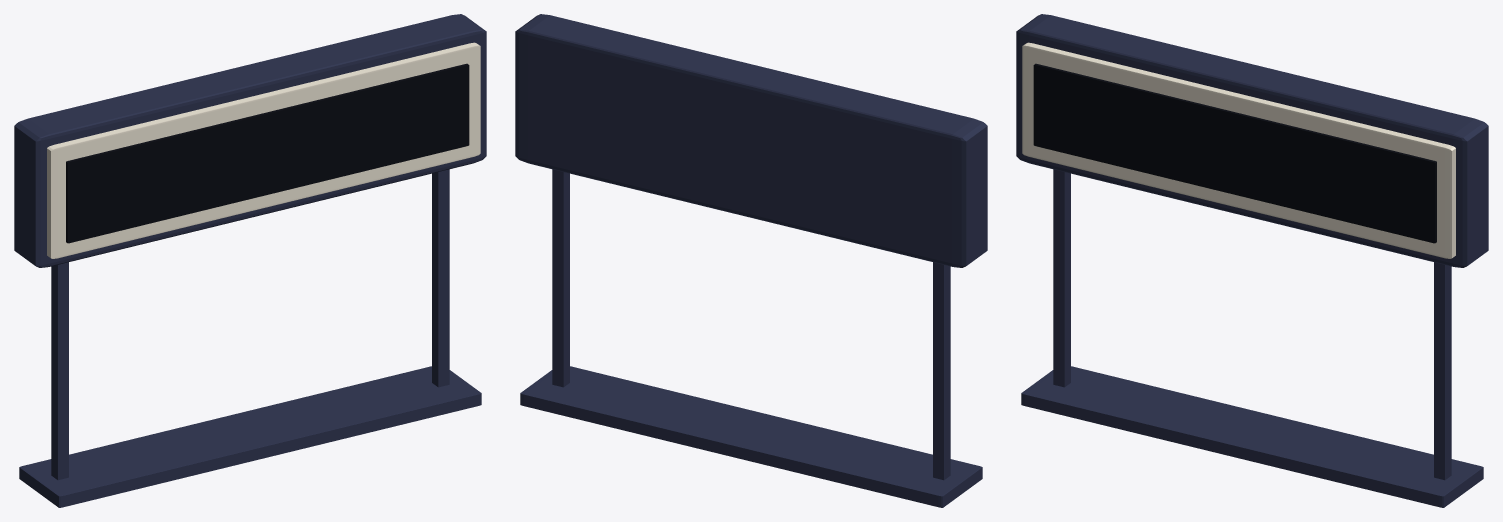
The model's file is ticker.glb.
3 views of the same model, side by side, from view 1: azimuth 30°, elevation 25°; view 2: azimuth 150°, elevation 25°; view 3: azimuth 330°, elevation 25° (orthographic).
Visible parts, largest first — view 1: TICKER_Screen, TK_Frame, TK_Foot, TK_Face, TK_LegR, TK_LegL; view 2: TK_Frame, TK_Foot, TK_LegR, TK_LegL; view 3: TICKER_Screen, TK_Frame, TK_Foot, TK_Face, TK_LegL, TK_LegR.
Boxes of the visible parts, <box> form: TICKER_Screen: <box>66,63,469,243</box>; TK_Frame: <box>14,14,486,267</box>; TK_Foot: <box>19,366,481,507</box>; TK_Face: <box>47,42,480,258</box>; TK_LegR: <box>432,169,449,387</box>; TK_LegL: <box>51,262,68,480</box>; TK_Frame: <box>515,14,987,267</box>; TK_Foot: <box>520,366,982,507</box>; TK_LegR: <box>552,169,569,387</box>; TK_LegL: <box>933,262,950,480</box>; TICKER_Screen: <box>1033,63,1436,243</box>; TK_Frame: <box>1016,14,1488,267</box>; TK_Foot: <box>1021,366,1483,507</box>; TK_Face: <box>1022,42,1455,258</box>; TK_LegL: <box>1053,169,1070,387</box>; TK_LegR: <box>1434,262,1451,480</box>.
Size of the model in its own units: 3.2 by 2.49 by 0.5.
